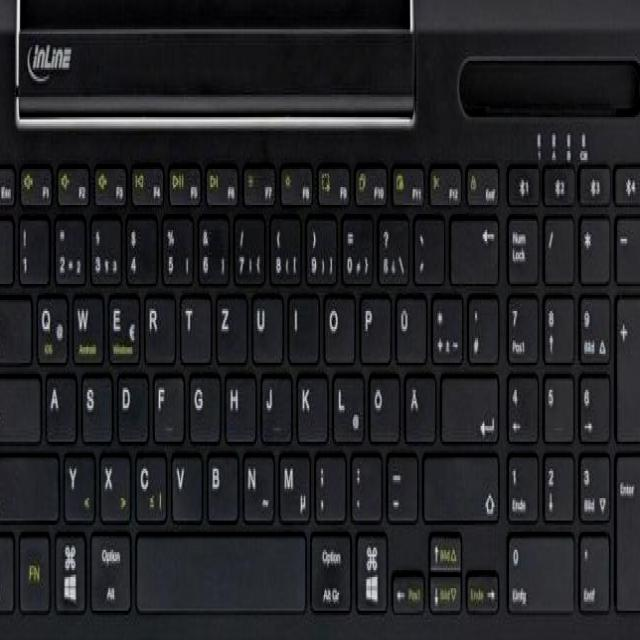0: (338, 208, 371, 280)
1: (16, 212, 47, 282)
2: (51, 210, 84, 280)
3: (87, 210, 120, 280)
4: (123, 210, 154, 280)
5: (158, 208, 191, 280)
6: (195, 210, 227, 280)
7: (231, 208, 263, 280)
8: (266, 208, 298, 280)
9: (302, 208, 334, 280)
a: (42, 368, 74, 438)
accent: (411, 208, 443, 278)
ae: (402, 368, 434, 440)
alt-left: (87, 523, 131, 611)
altgr-right: (307, 523, 351, 609)
b: (203, 447, 237, 519)
c: (132, 447, 164, 519)
caret: (0, 212, 13, 280)
comma: (311, 447, 344, 519)
d: (114, 368, 146, 440)
del: (447, 210, 497, 280)
e: (105, 287, 137, 359)
enter: (437, 365, 497, 437)
f: (150, 368, 182, 438)
g: (186, 368, 218, 438)
h: (222, 368, 254, 438)
hash: (464, 289, 496, 359)
i: (285, 287, 316, 359)
j: (258, 368, 290, 438)
k: (293, 368, 325, 440)
keyboard: (0, 106, 640, 640)
l: (330, 368, 362, 440)
m: (274, 444, 308, 518)
minus: (383, 447, 416, 519)
n: (240, 447, 272, 519)
o: (320, 287, 352, 359)
oe: (366, 368, 398, 440)
p: (356, 287, 389, 359)
plus: (428, 287, 460, 359)
point: (347, 446, 380, 516)
q: (33, 287, 66, 361)
r: (141, 287, 173, 359)
s: (78, 368, 111, 438)
shift-left: (0, 444, 58, 518)
shift-lock: (0, 368, 39, 440)
shift-right: (419, 447, 497, 519)
space: (133, 523, 304, 611)
ss: (375, 208, 407, 280)
strg-left: (0, 525, 14, 611)
t: (177, 287, 209, 359)
tab: (0, 287, 30, 361)
u: (249, 287, 281, 359)
ue: (392, 287, 425, 359)
v: (168, 447, 200, 519)
w: (70, 284, 102, 358)
x: (97, 447, 129, 519)
y: (61, 447, 93, 519)
z: (213, 287, 245, 361)
